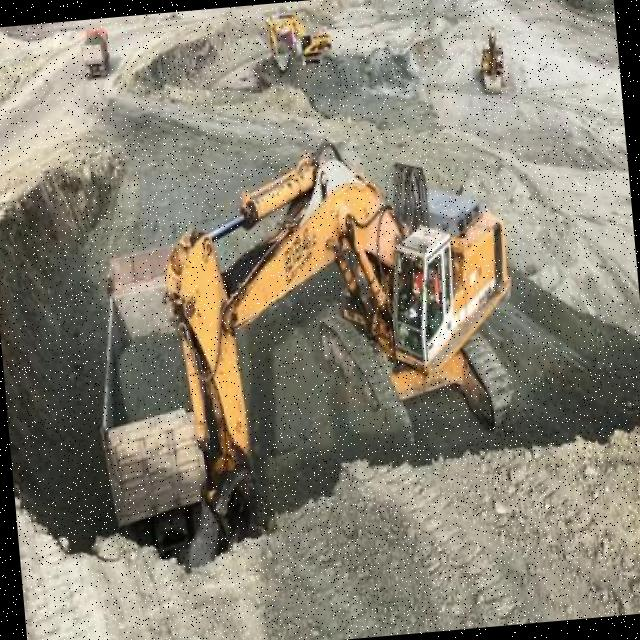Dump Truck: (82, 242, 212, 554), (77, 23, 111, 80)
Excavator: (152, 126, 536, 564), (262, 4, 334, 75), (474, 24, 506, 94), (549, 0, 596, 8)
